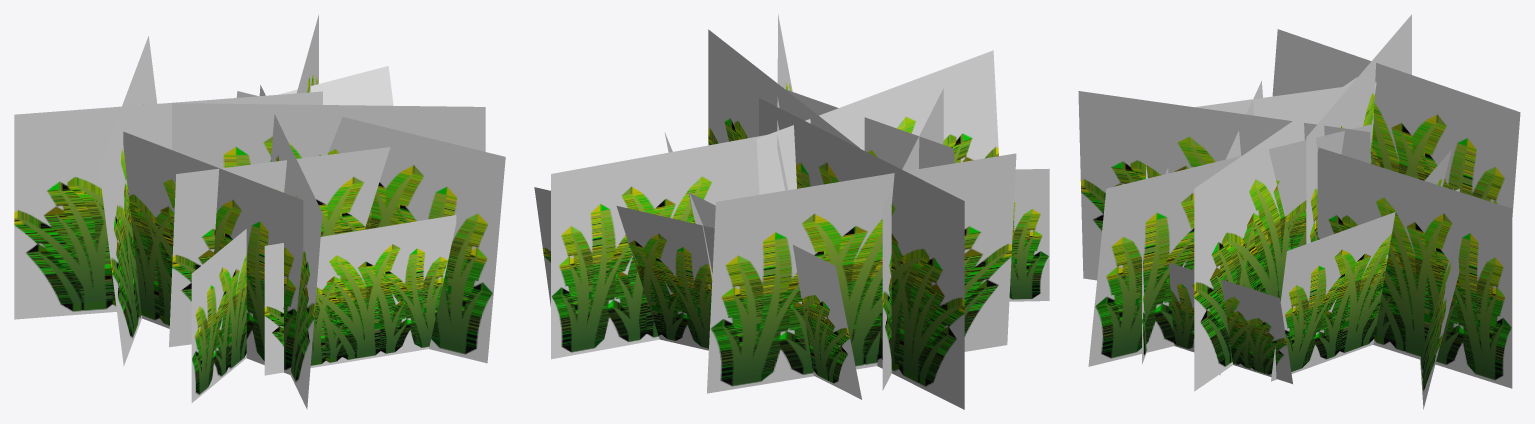
File: mid_grass_12.gltf
The picture shows the model from 3 angles, left to right: view 1: azimuth 30°, elevation 25°; view 2: azimuth 150°, elevation 25°; view 3: azimuth 270°, elevation 25°; orthographic projection. The views are drawn at different scales.
Parts seen in each view (by area): view 1: default; view 2: default; view 3: default.
Boxes of the visible parts, x1=… form: default: x1=14, y1=14, x2=505, y2=409; default: x1=534, y1=14, x2=1049, y2=409; default: x1=1078, y1=14, x2=1520, y2=409.
Size of the model in its own units: 1.16 by 0.5771 by 1.13.
Materials: 1 (1 with a texture image).
